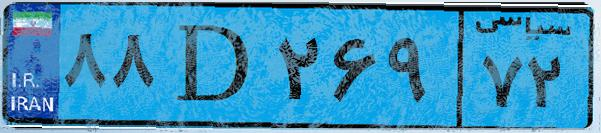2: (270, 28, 330, 110), (525, 38, 570, 115)
6: (330, 28, 385, 110)
7: (475, 38, 525, 113)
8: (57, 26, 110, 100), (110, 28, 158, 98)
9: (385, 28, 445, 110)
D: (158, 12, 270, 120)
